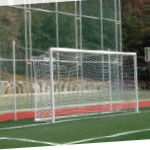goals: (31, 46, 141, 123)
